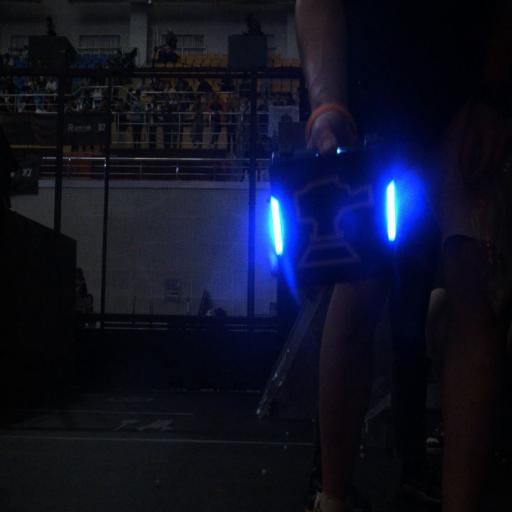target: (264, 156, 406, 283)
